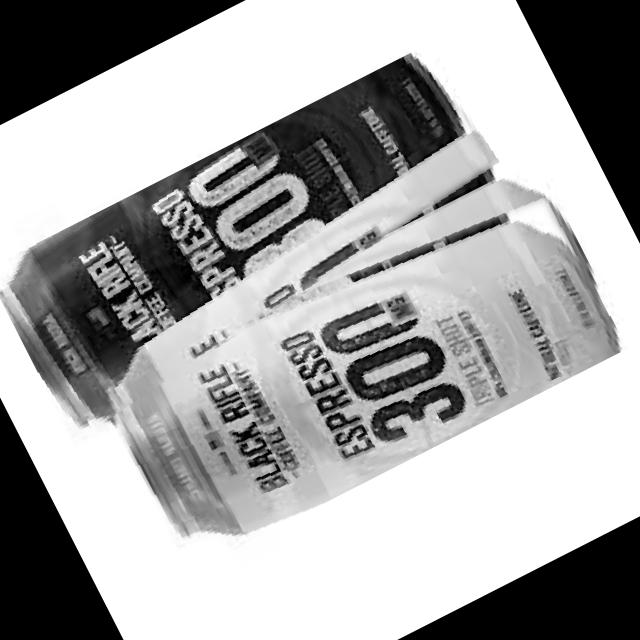Cans: (88, 150, 629, 572), (0, 38, 525, 441)
